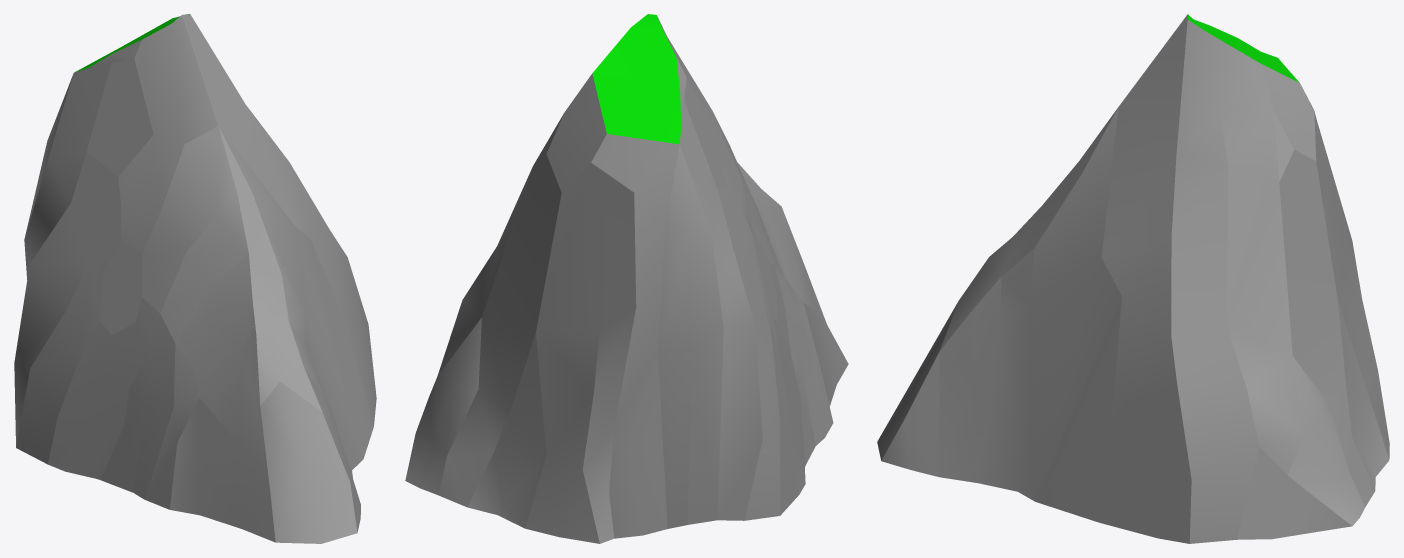
Rendered from rock_jungle_big_A.fbx.
The picture shows the model from 3 angles, left to right: view 1: azimuth 30°, elevation 25°; view 2: azimuth 150°, elevation 25°; view 3: azimuth 270°, elevation 25°; orthographic projection. The views are drawn at different scales.
Parts seen in each view (by area): view 1: rock_jungle_big_A; view 2: rock_jungle_big_A; view 3: rock_jungle_big_A.
Boxes of the visible parts, <box> form: rock_jungle_big_A: <box>14,14,376,543</box>; rock_jungle_big_A: <box>405,14,848,543</box>; rock_jungle_big_A: <box>877,14,1389,543</box>.
Size of the model in its own units: 126 by 151 by 162.
